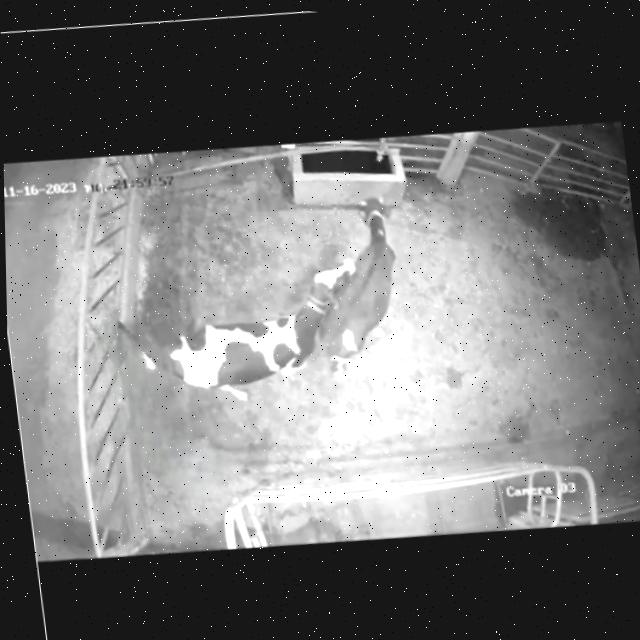stand: (106, 250, 376, 417), (298, 182, 435, 398)
